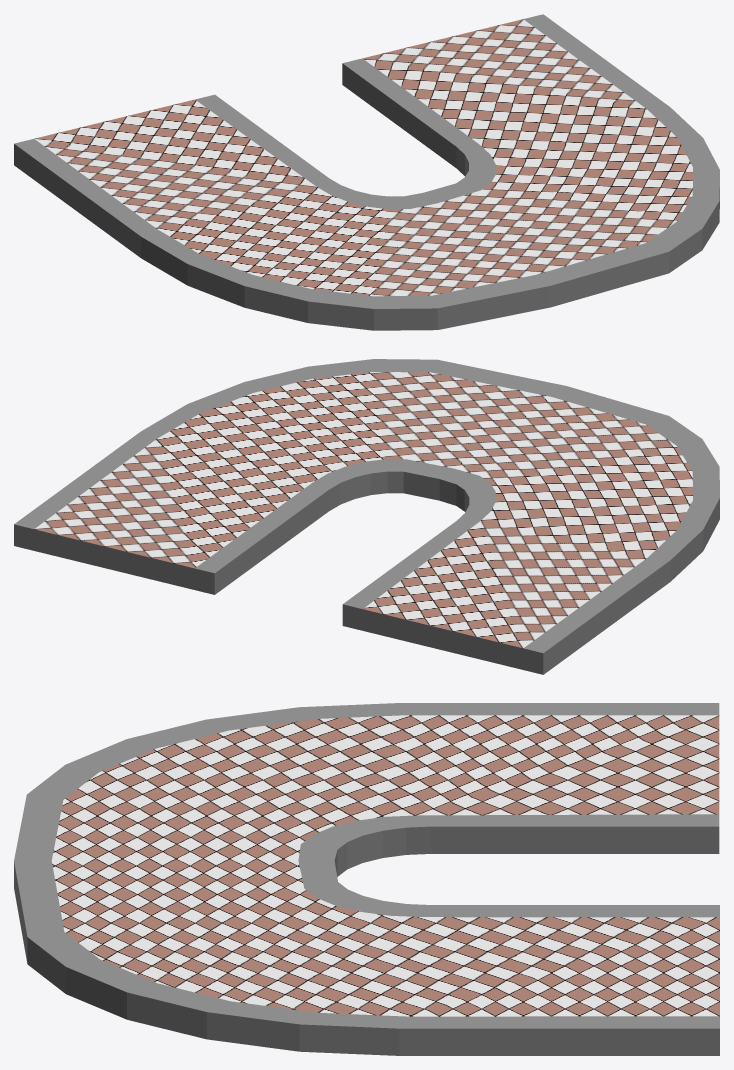
File: UTurnChunk.fbx
The picture shows the model from 3 angles, top to bottom: view 1: azimuth 30°, elevation 25°; view 2: azimuth 150°, elevation 25°; view 3: azimuth 270°, elevation 25°; orthographic projection. The views are drawn at different scales.
Parts seen in each view (by area): view 1: UTurnChunk; view 2: UTurnChunk; view 3: UTurnChunk.
Boxes of the visible parts, x1=… form: UTurnChunk: x1=14, y1=14, x2=719, y2=330; UTurnChunk: x1=14, y1=359, x2=719, y2=674; UTurnChunk: x1=14, y1=703, x2=719, y2=1055.
Bounding box in the file's own units: 128 × 117 × 5.01.
